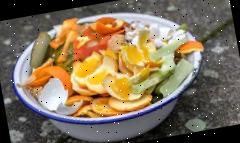organic: (73, 45, 140, 106), (28, 72, 82, 120)
